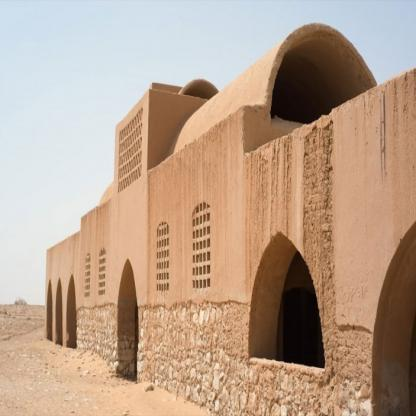Building Outline: (46, 21, 416, 416)
Door Hole: (117, 258, 138, 383), (66, 274, 77, 349), (55, 278, 63, 348), (46, 279, 53, 343)
Facade: (46, 66, 415, 415)
Floor Slab: (80, 106, 244, 229)
Ground Floor: (46, 67, 416, 416)
Top Floor: (114, 89, 149, 195)
Window: (118, 107, 143, 194), (192, 202, 210, 290), (156, 222, 169, 290), (98, 248, 106, 295), (85, 253, 91, 297)
Window Hole: (248, 232, 325, 369)
